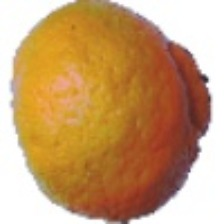tangerine: (39, 42, 221, 197)
